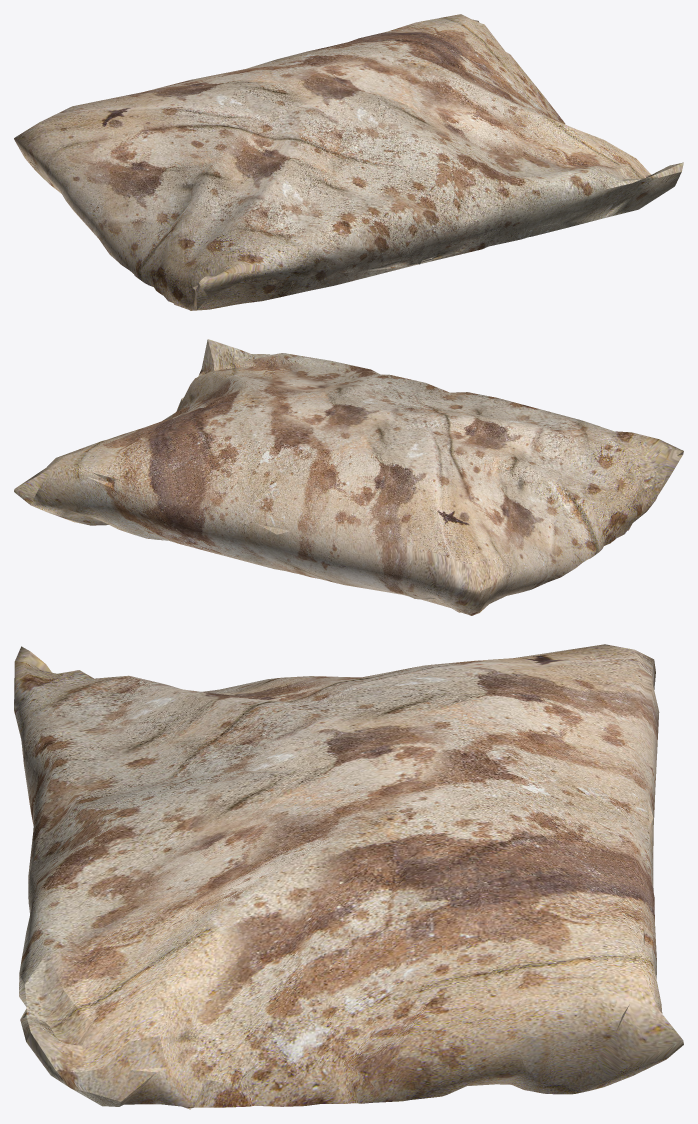
File: pillow.FBX
3 views of the same model, one above another, from view 1: azimuth 30°, elevation 25°; view 2: azimuth 150°, elevation 25°; view 3: azimuth 270°, elevation 25° (orthographic). The views are drawn at different scales.
Parts seen in each view (by area): view 1: Pillow; view 2: Pillow; view 3: Pillow.
Part boxes in pixels (x1,y1,x2,y2): Pillow: (14,14,683,310); Pillow: (14,339,683,615); Pillow: (14,644,683,1109).
Size of the model in its own units: 0.5547 by 0.1266 by 0.4088.
Materials: 1 (1 with a texture image).
